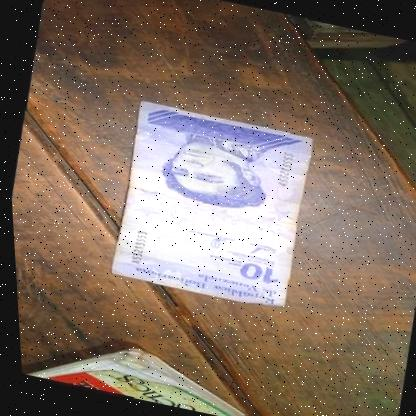ten-front-vef: (99, 100, 319, 310)
